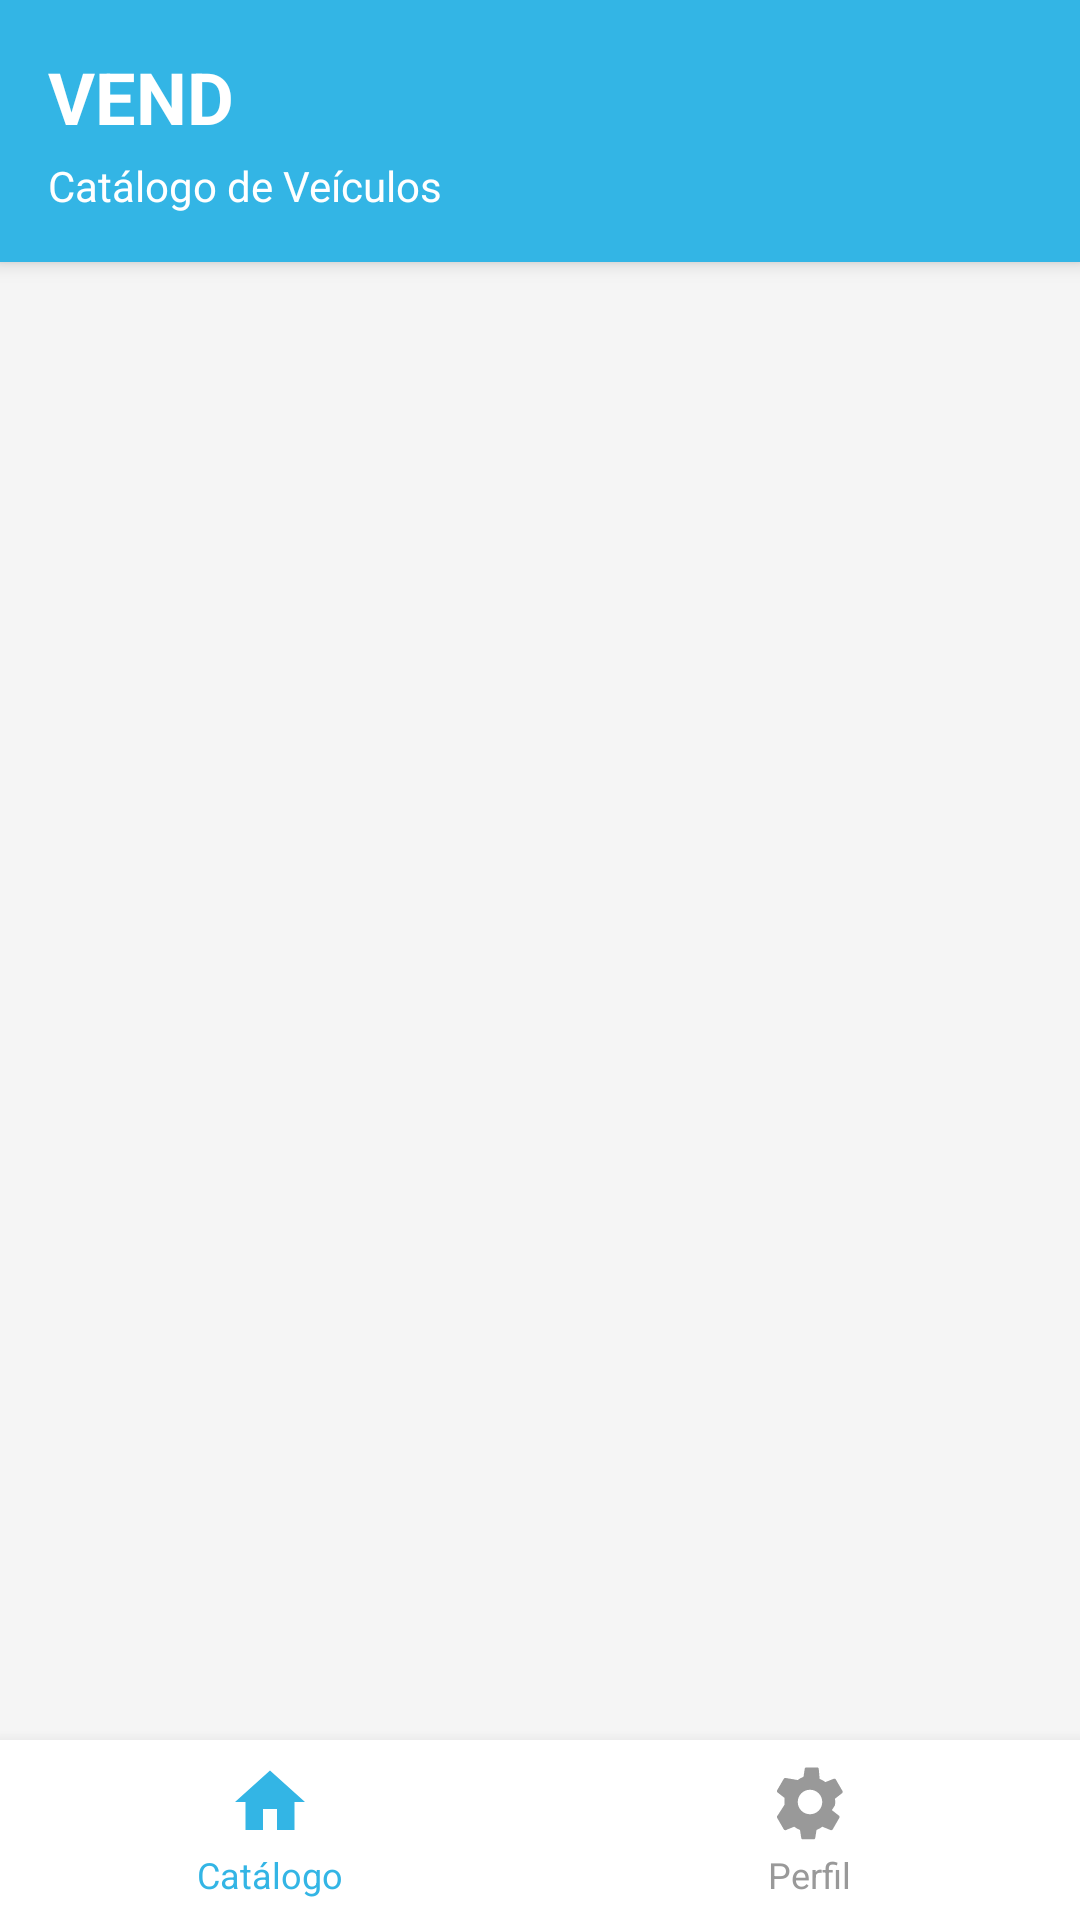

Where icons sit on this 1080×1920 app screen, as (x1, y1, x2, y2):
Configurações: (777, 1767, 843, 1840)
Home: (235, 1770, 305, 1830)
